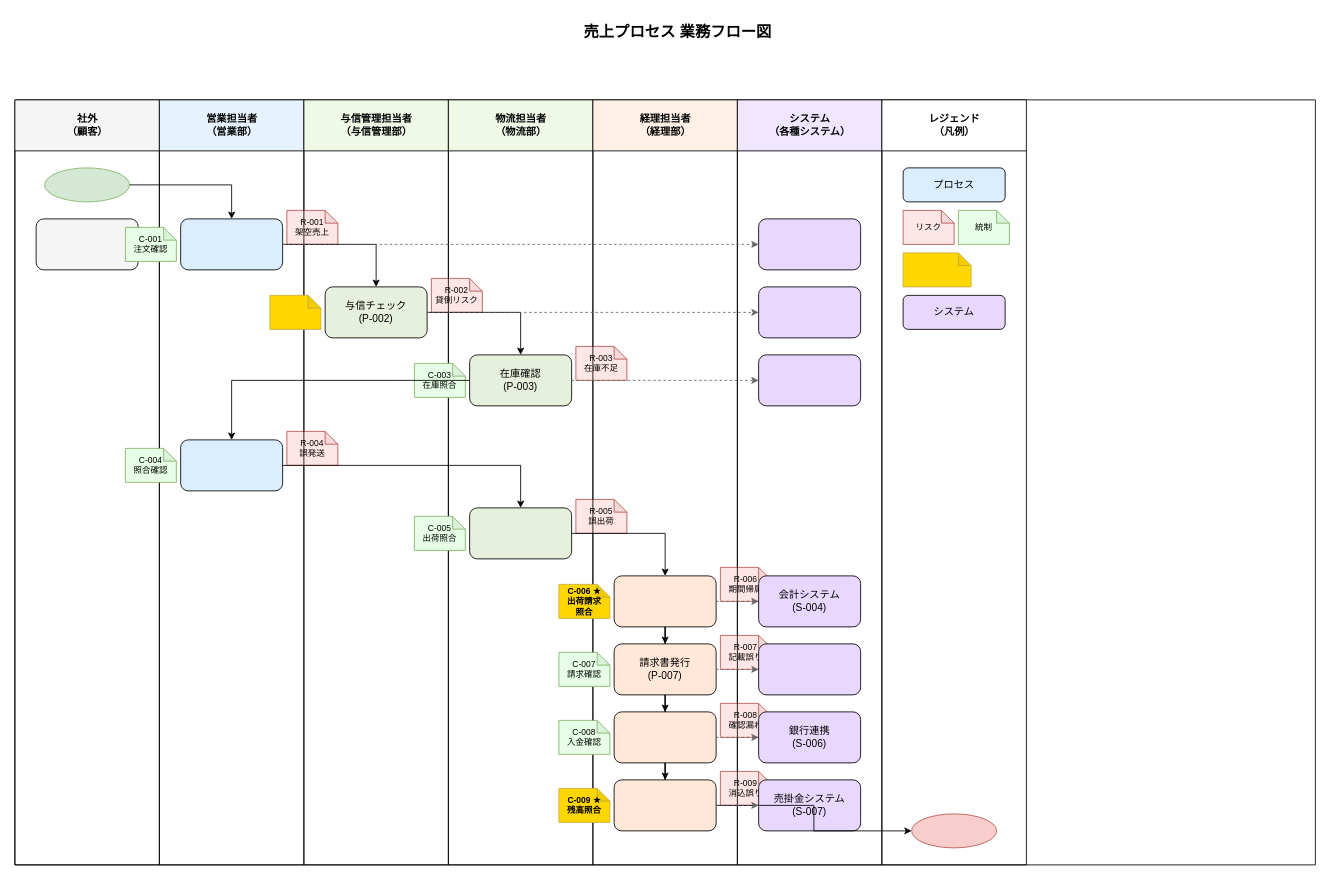
Image size: 1330x880. Some labels were removed from this diagram. Each missing label, with the centre of its shape:
C-002 ★ 与信限度 チェック: pixel 295 312
キー統制 ★: pixel 936 269
与信システム (S-002): pixel 809 312
入金確認 (P-008): pixel 664 737
出荷指示 (P-004): pixel 231 465
受注システム (S-001): pixel 809 244
商品出荷 (P-005): pixel 520 533
在庫システム (S-003): pixel 809 380
売上計上 (P-006): pixel 664 601
売掛金消込 (P-009): pixel 664 805
注文: pixel 86 244
注文受付 (P-001): pixel 231 244
終了: pixel 954 830
請求システム (S-005): pixel 809 669
開始: pixel 87 184
